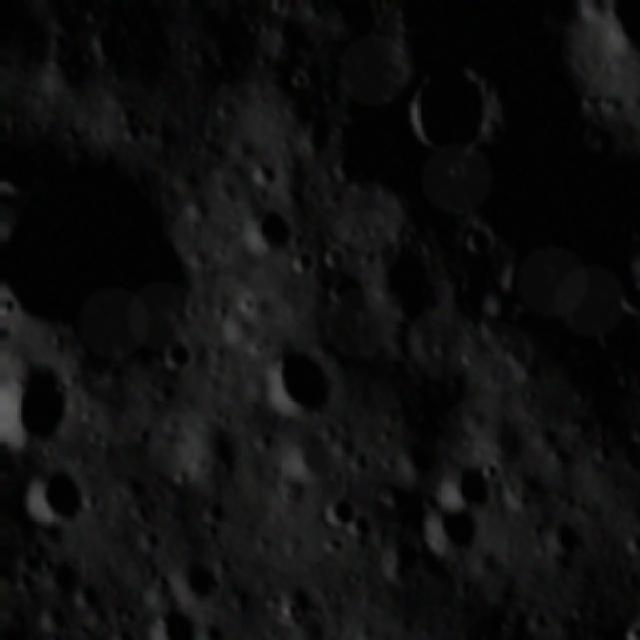crater: (0, 169, 191, 346), (402, 63, 500, 171), (0, 363, 77, 445), (20, 460, 94, 531), (263, 342, 335, 412), (495, 252, 554, 322), (580, 302, 640, 369), (0, 138, 45, 200), (322, 270, 370, 325), (444, 453, 488, 513), (240, 207, 292, 253), (330, 0, 384, 43), (153, 332, 198, 376), (431, 510, 475, 553), (452, 215, 493, 260), (150, 601, 197, 640), (174, 556, 221, 595), (542, 513, 580, 559), (38, 554, 80, 594), (318, 491, 356, 529), (291, 431, 324, 474), (68, 578, 110, 610), (37, 602, 69, 633), (276, 250, 313, 276), (314, 243, 338, 275)
